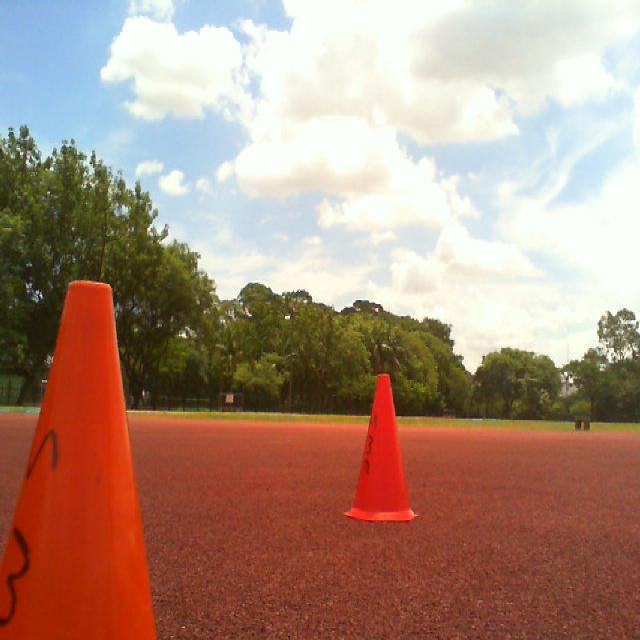cone: (0, 280, 157, 640), (349, 379, 422, 525)
